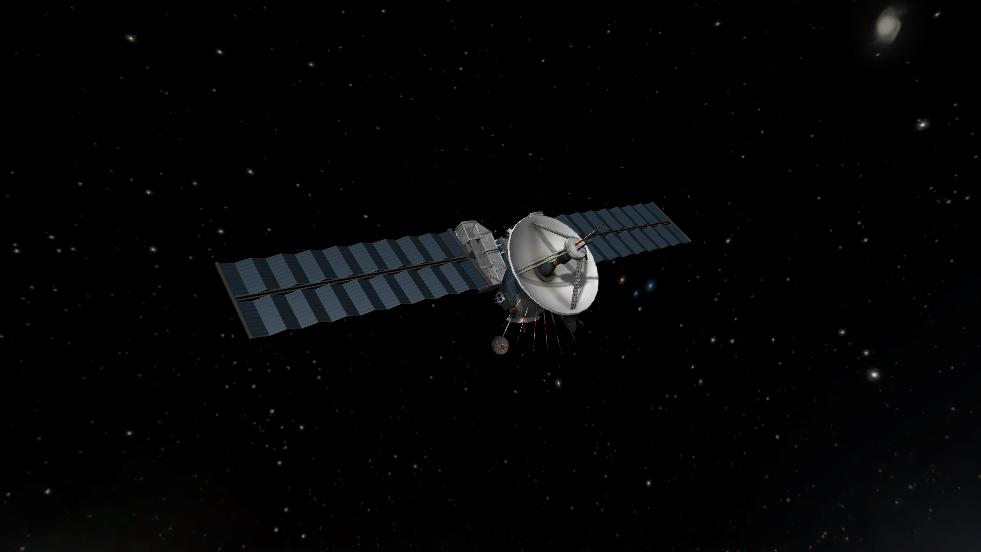antenna: (506, 209, 608, 318), (515, 301, 532, 348), (499, 298, 524, 329), (539, 309, 554, 359), (490, 334, 510, 356), (531, 307, 540, 355), (564, 315, 579, 334)
body: (451, 219, 548, 325)
solar: (213, 228, 495, 342), (553, 200, 694, 266)
